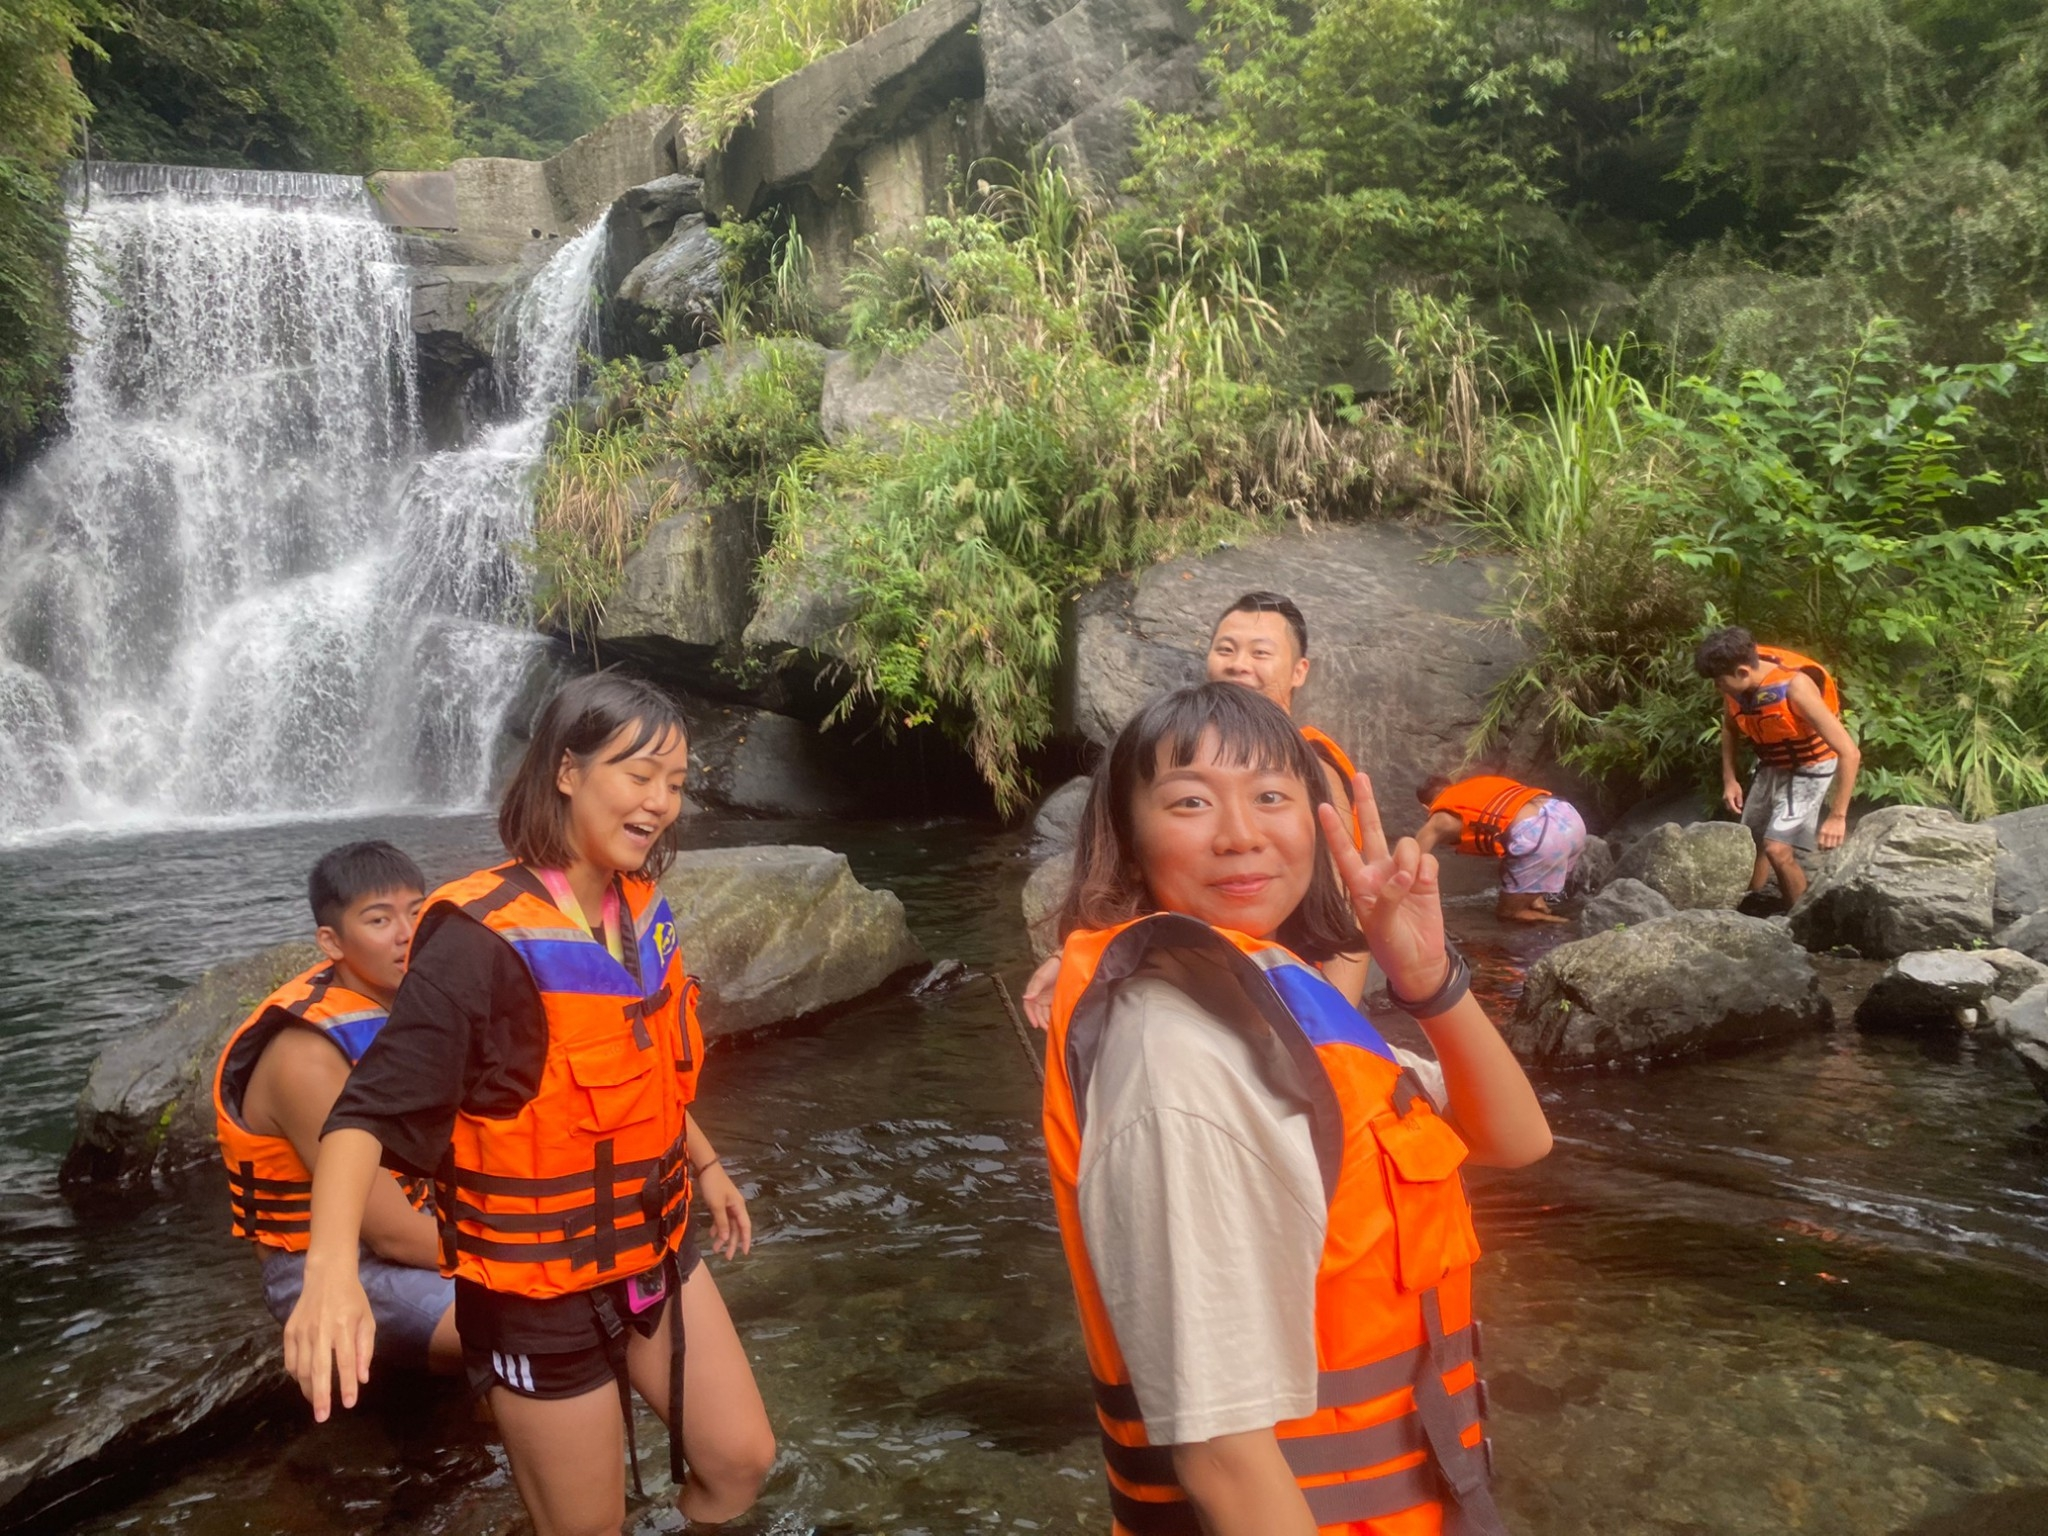people: (1063, 684, 1487, 1536), (469, 681, 778, 1536), (1172, 605, 1399, 1028), (272, 858, 469, 1331), (1704, 637, 1834, 913), (1399, 755, 1593, 925)
